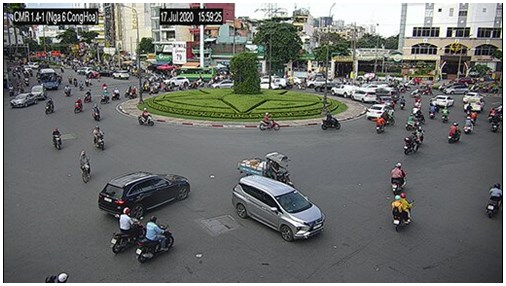xe_buyt: (174, 67, 216, 80), (38, 68, 59, 90)
xe_hoi: (231, 175, 325, 241), (97, 171, 192, 216), (367, 103, 394, 120), (351, 88, 378, 103), (10, 93, 37, 106), (163, 75, 190, 87), (431, 94, 453, 107), (331, 84, 353, 97), (31, 84, 47, 101), (442, 85, 469, 95), (211, 79, 235, 89), (462, 101, 482, 113), (463, 92, 483, 104), (315, 83, 336, 93), (111, 69, 129, 80), (259, 80, 277, 89)
xe_may: (110, 207, 146, 257), (138, 216, 174, 262), (392, 193, 412, 233), (391, 162, 407, 195), (487, 183, 502, 217), (320, 110, 341, 130), (260, 112, 280, 131), (136, 107, 154, 127), (401, 131, 416, 154), (93, 124, 104, 152), (446, 121, 460, 143), (382, 110, 395, 128), (489, 113, 500, 134), (462, 116, 473, 135), (53, 126, 61, 152), (413, 125, 423, 145), (416, 110, 426, 127), (44, 98, 54, 113), (109, 86, 119, 101), (73, 96, 82, 112), (376, 115, 384, 132), (93, 103, 101, 120), (427, 101, 434, 120), (102, 85, 109, 104), (440, 105, 448, 121), (122, 86, 132, 98), (413, 96, 420, 113), (469, 110, 478, 123), (83, 89, 90, 104), (400, 95, 406, 111), (131, 87, 138, 99), (64, 84, 71, 95), (67, 72, 72, 84), (78, 80, 84, 89), (72, 78, 77, 88)
